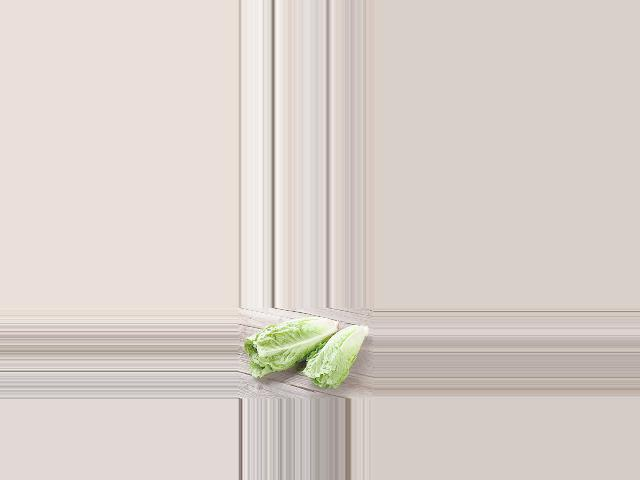lettuce: (301, 322, 373, 394)
